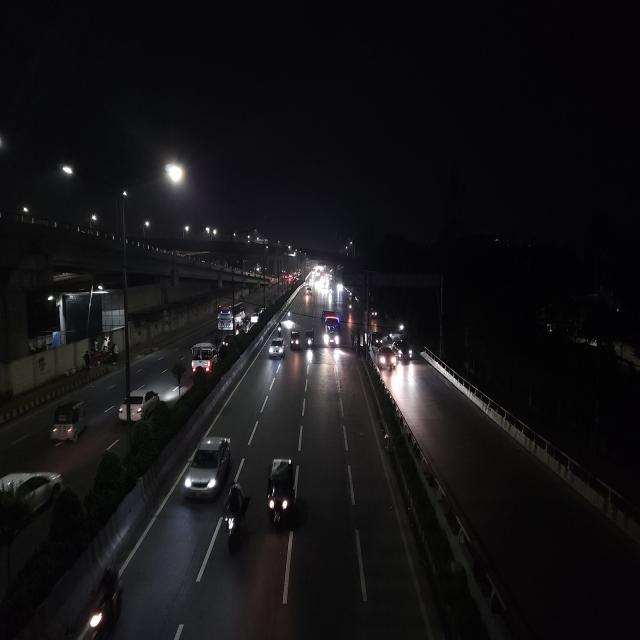bus: (217, 300, 246, 334), (320, 310, 342, 350)
car: (179, 432, 235, 506), (115, 383, 161, 430), (188, 340, 228, 377), (377, 343, 397, 371), (267, 335, 286, 360), (395, 339, 413, 364)
cng: (264, 455, 303, 537), (46, 396, 90, 450), (289, 328, 301, 353), (304, 327, 315, 350), (372, 331, 383, 350)
motorcycle: (220, 480, 252, 554), (276, 320, 283, 337)
pedestrian: (81, 350, 93, 376), (352, 333, 358, 351)
